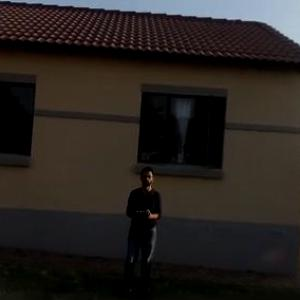follow: (118, 158, 158, 299)
